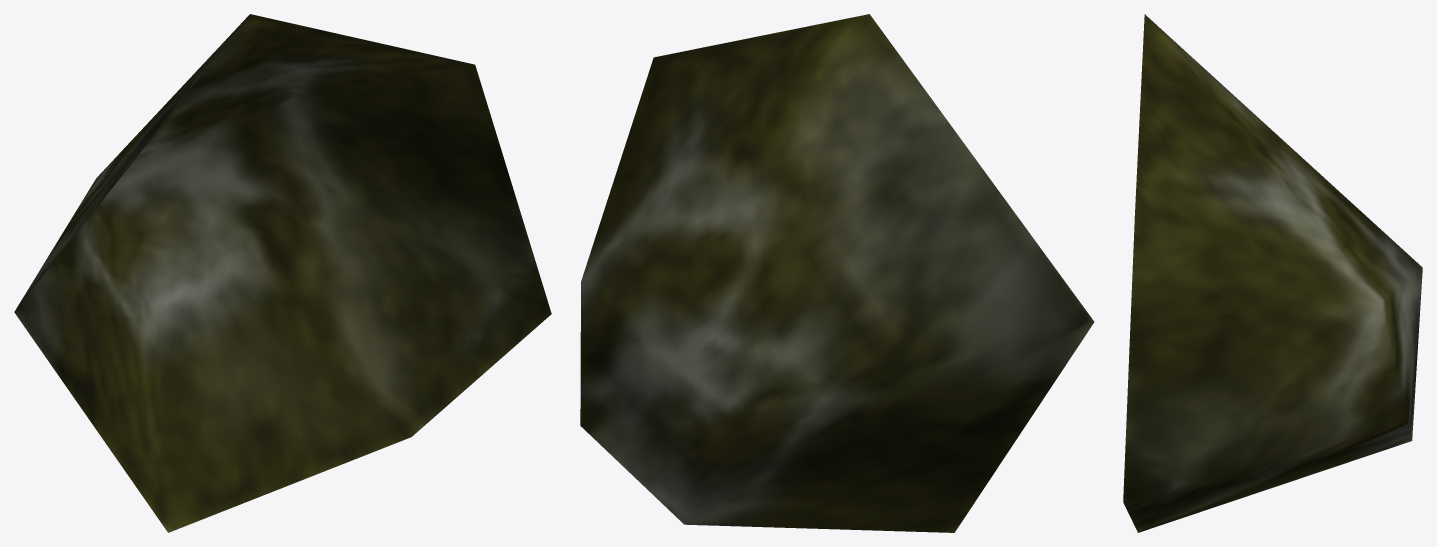
File: MEP_GroundRocks_01_i.fbx
The picture shows the model from 3 angles, left to right: view 1: azimuth 30°, elevation 25°; view 2: azimuth 150°, elevation 25°; view 3: azimuth 270°, elevation 25°; orthographic projection. The views are drawn at different scales.
Parts seen in each view (by area): view 1: MEP_GroundRock_01_i; view 2: MEP_GroundRock_01_i; view 3: MEP_GroundRock_01_i.
Boxes of the visible parts, x1=… form: MEP_GroundRock_01_i: x1=14, y1=14, x2=551, y2=532; MEP_GroundRock_01_i: x1=580, y1=14, x2=1094, y2=532; MEP_GroundRock_01_i: x1=1123, y1=14, x2=1422, y2=532.
Bounding box in the file's own units: 0.8795 × 0.8034 × 0.4532.
